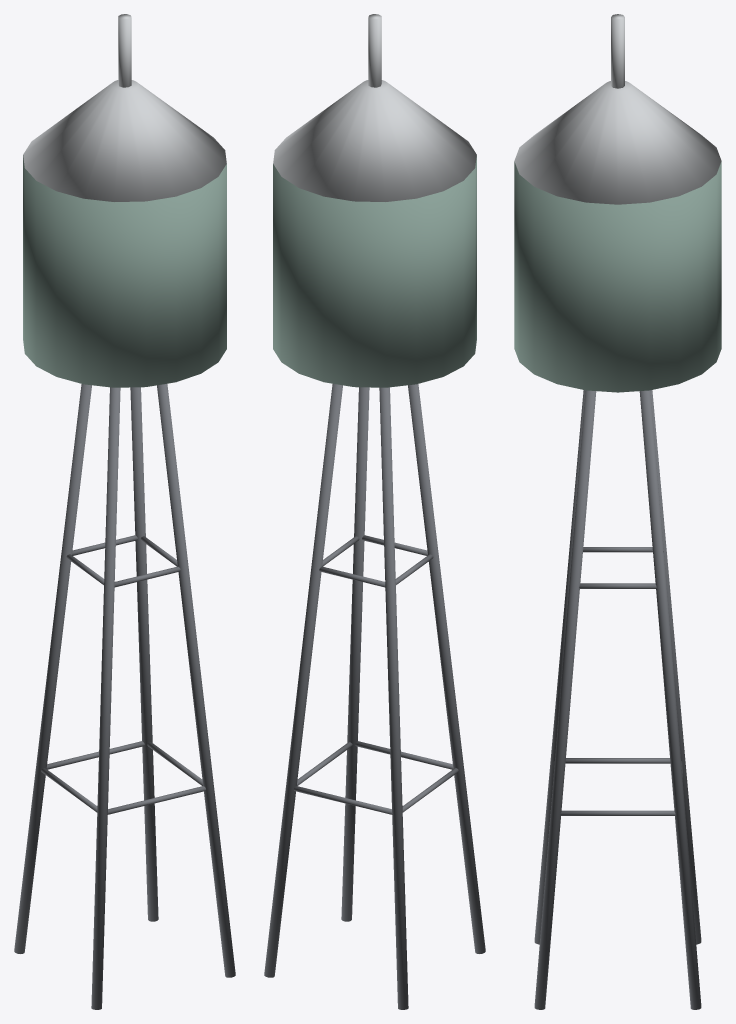
Rendered from Arch_M13_WaterTower.glb.
3 views of the same model, side by side, from view 1: azimuth 30°, elevation 25°; view 2: azimuth 150°, elevation 25°; view 3: azimuth 270°, elevation 25° (orthographic).
Visible parts, largest first — view 1: Arch_M13_WaterTower_LOD0; view 2: Arch_M13_WaterTower_LOD0; view 3: Arch_M13_WaterTower_LOD0.
Part boxes in pixels (box(x1,y1,x2,y2)): Arch_M13_WaterTower_LOD0: box(14, 14, 235, 1009); Arch_M13_WaterTower_LOD0: box(264, 14, 485, 1009); Arch_M13_WaterTower_LOD0: box(514, 14, 721, 1009).
Bounding box in the file's own units: 3 × 15.31 × 3.
